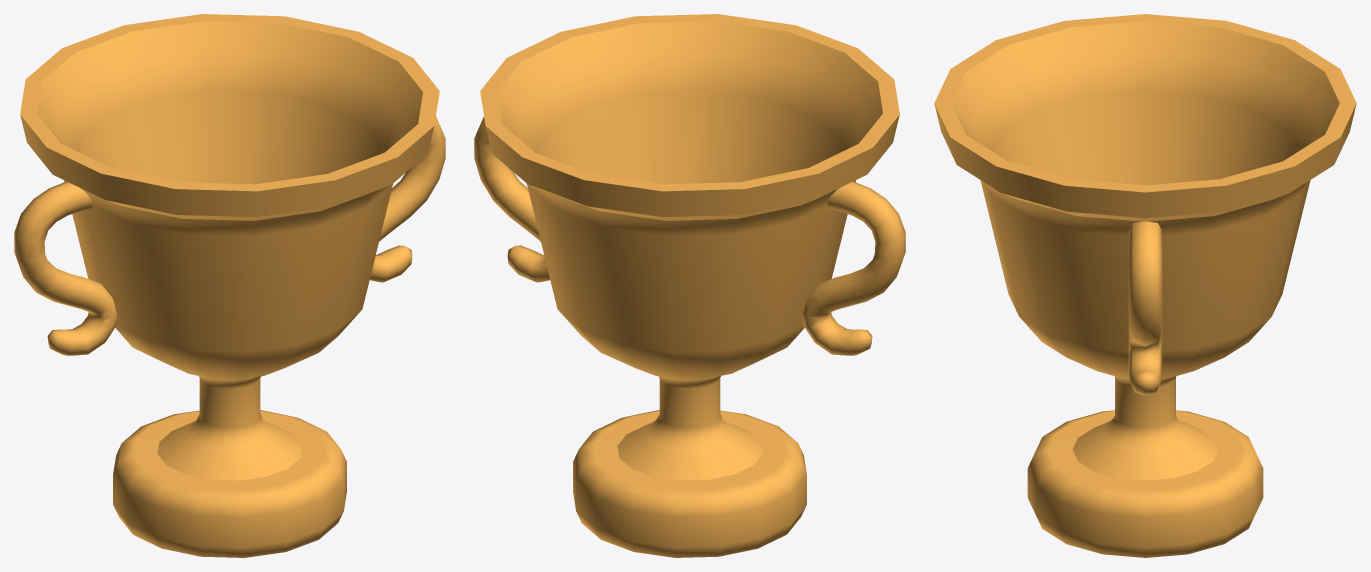
The model's file is Cup_01_002.glb.
The picture shows the model from 3 angles, left to right: view 1: azimuth 30°, elevation 25°; view 2: azimuth 150°, elevation 25°; view 3: azimuth 270°, elevation 25°; orthographic projection.
Parts seen in each view (by area): view 1: Cup_01.002; view 2: Cup_01.002; view 3: Cup_01.002.
Boxes of the visible parts, x1,y1,x2,y2 form: Cup_01.002: (14,14,445,557); Cup_01.002: (474,14,905,557); Cup_01.002: (934,14,1356,557).
Size of the model in its own units: 0.3381 by 0.3133 by 0.2906.
Materials: 1 (1 with a texture image).
